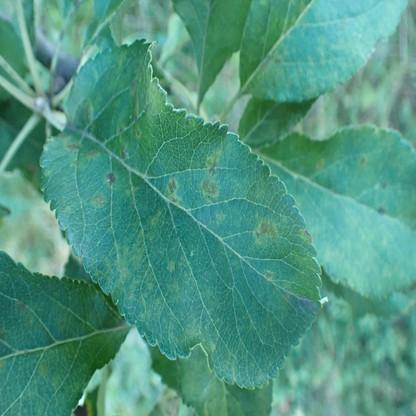scab: (68, 52, 312, 381), (317, 124, 416, 290), (242, 0, 346, 96), (0, 301, 63, 415)
